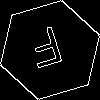F: (25, 25, 69, 78)
